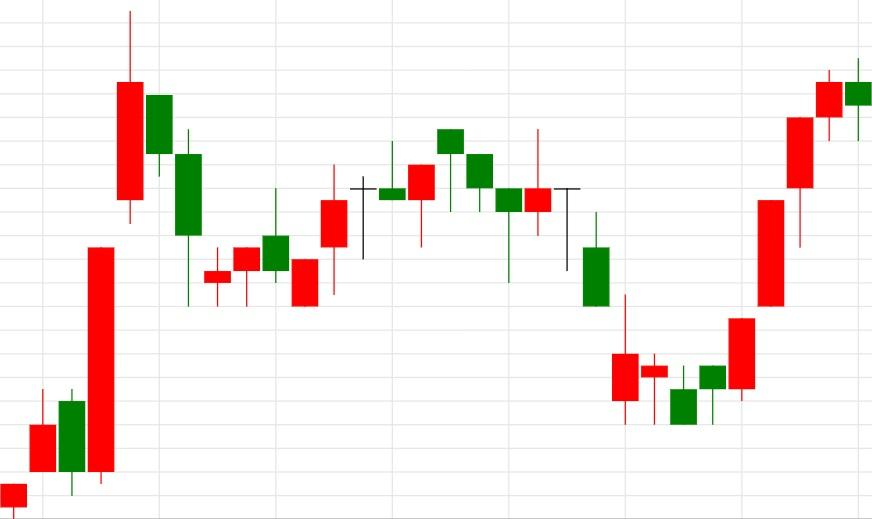three_black_crows_fall: (291, 129, 523, 307)
